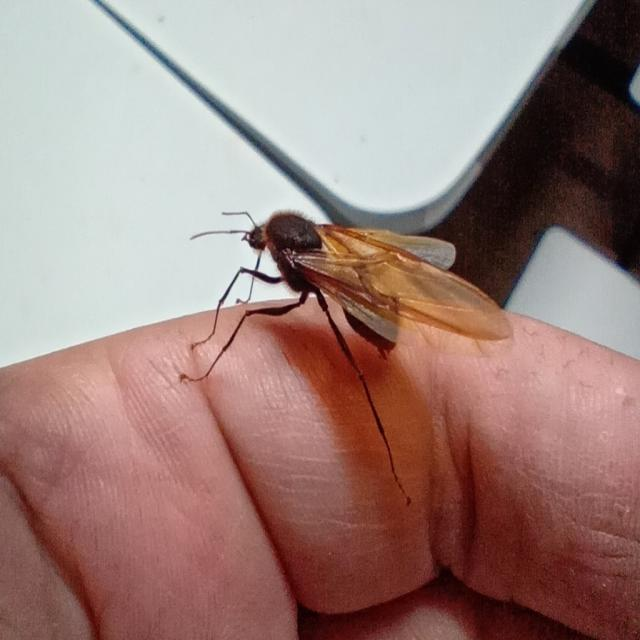Alive-Male-Alate: (179, 210, 513, 506)
